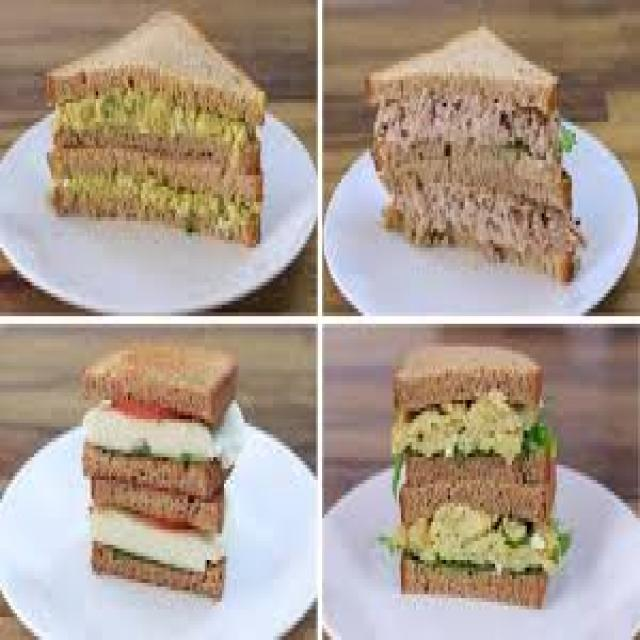Sandwich: (47, 23, 290, 258), (373, 49, 589, 267), (385, 360, 561, 622), (97, 368, 240, 613)
